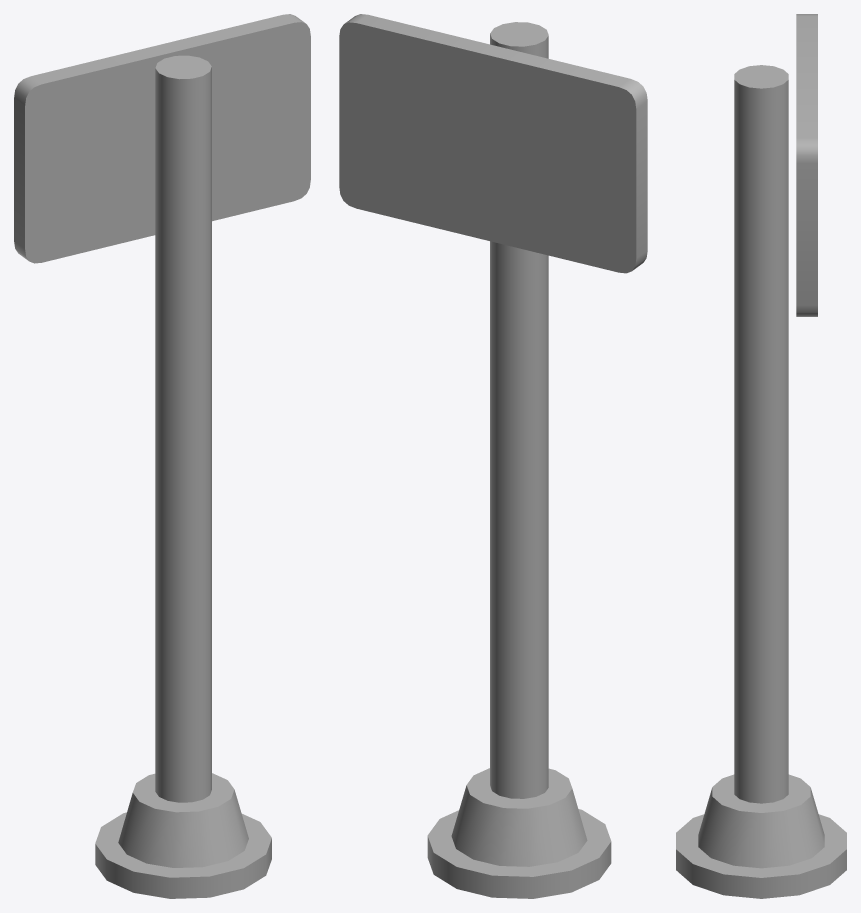
File: Prop_Sign_01.FBX
The picture shows the model from 3 angles, left to right: view 1: azimuth 30°, elevation 25°; view 2: azimuth 150°, elevation 25°; view 3: azimuth 270°, elevation 25°; orthographic projection. The views are drawn at different scales.
Parts seen in each view (by area): view 1: Box003; view 2: Box003; view 3: Box003.
Boxes of the visible parts, x1,y1,x2,y2 form: Box003: [14, 14, 310, 898]; Box003: [339, 14, 647, 898]; Box003: [676, 14, 846, 898].
Bounding box in the file's own units: 14.65 × 38.95 × 7.68.
1 material, 1 textured.
